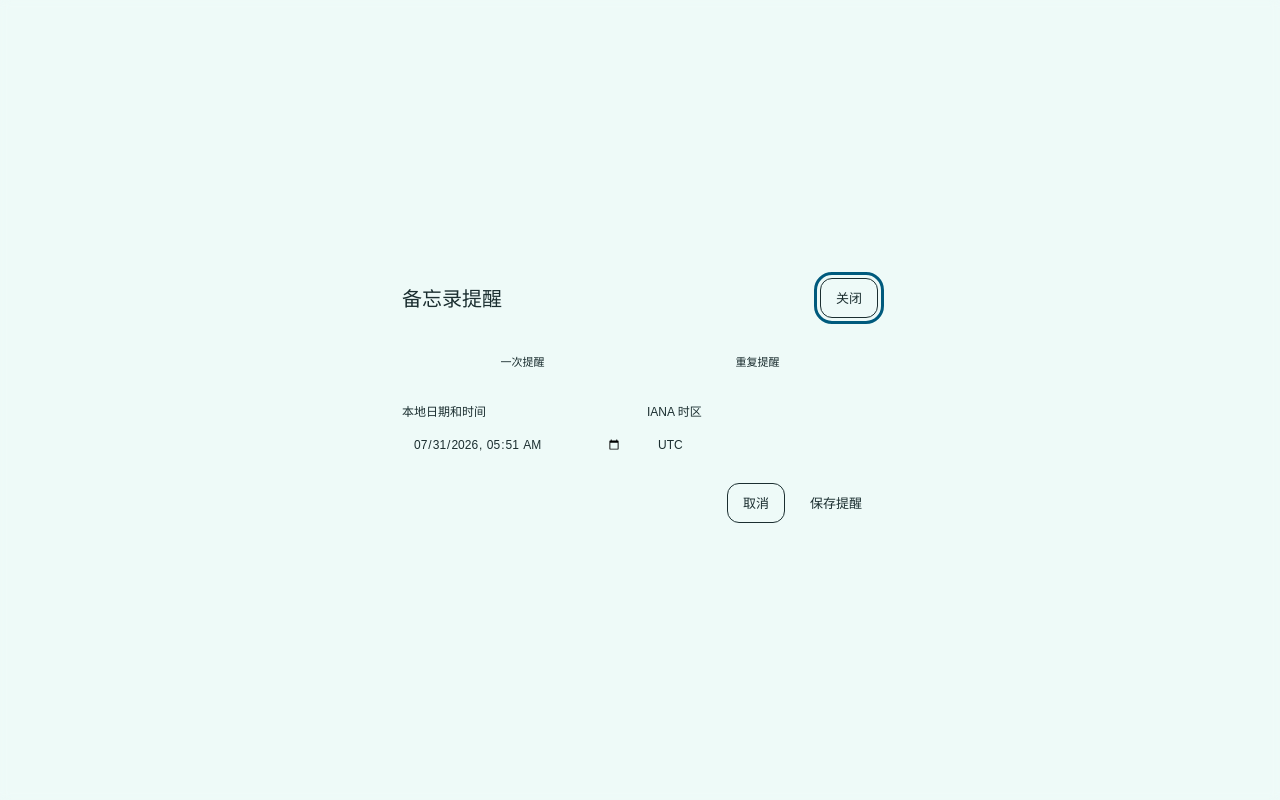
it: MemoReminderEditor › switches from a one-time reminder to progressive recurring fields
This screenshot has width=1280, height=800.
Click the radio button labelled "重复提醒": (758,360) [640, 340, 875, 380]
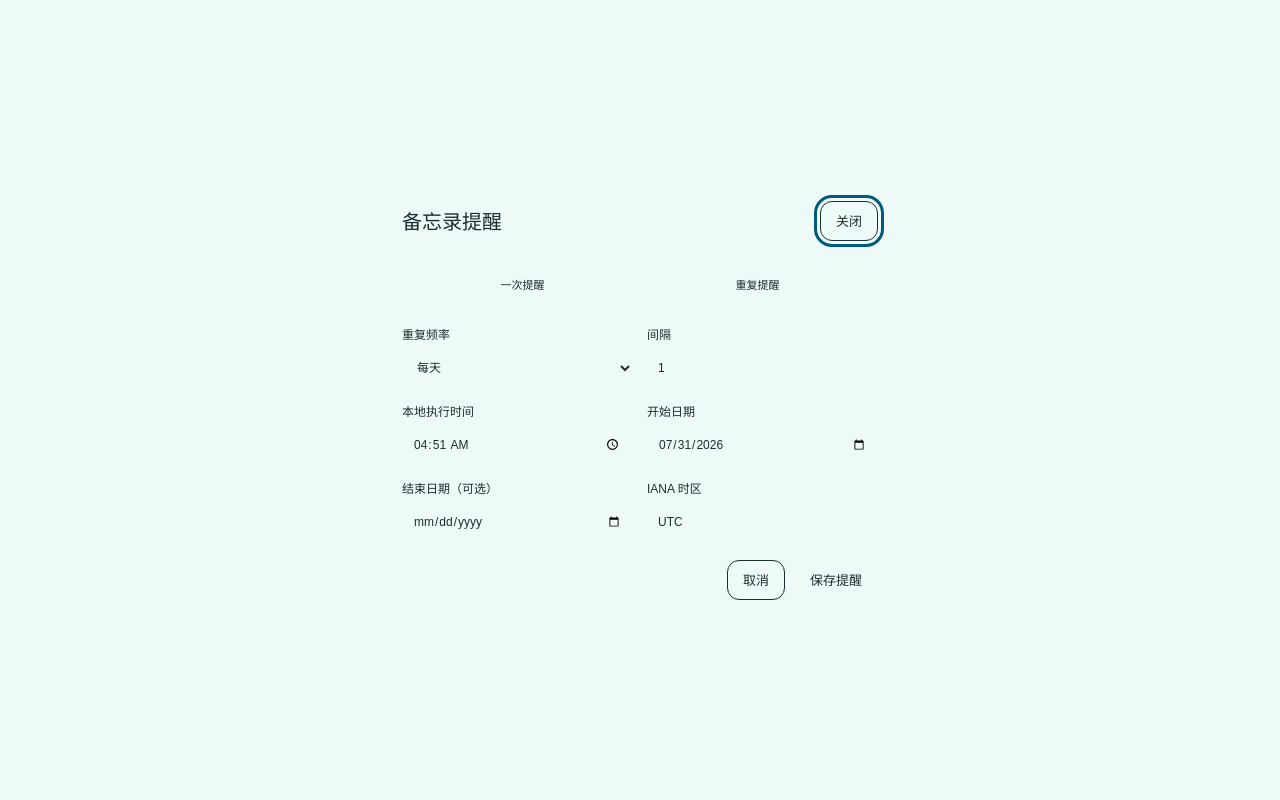
Expected: the element "执行星期" is not shown
Expected: the dropdown labelled "重复频率" shows "每天"
Select "每周" in the dropdown labelled "重复频率": (518,368) [402, 348, 633, 388]
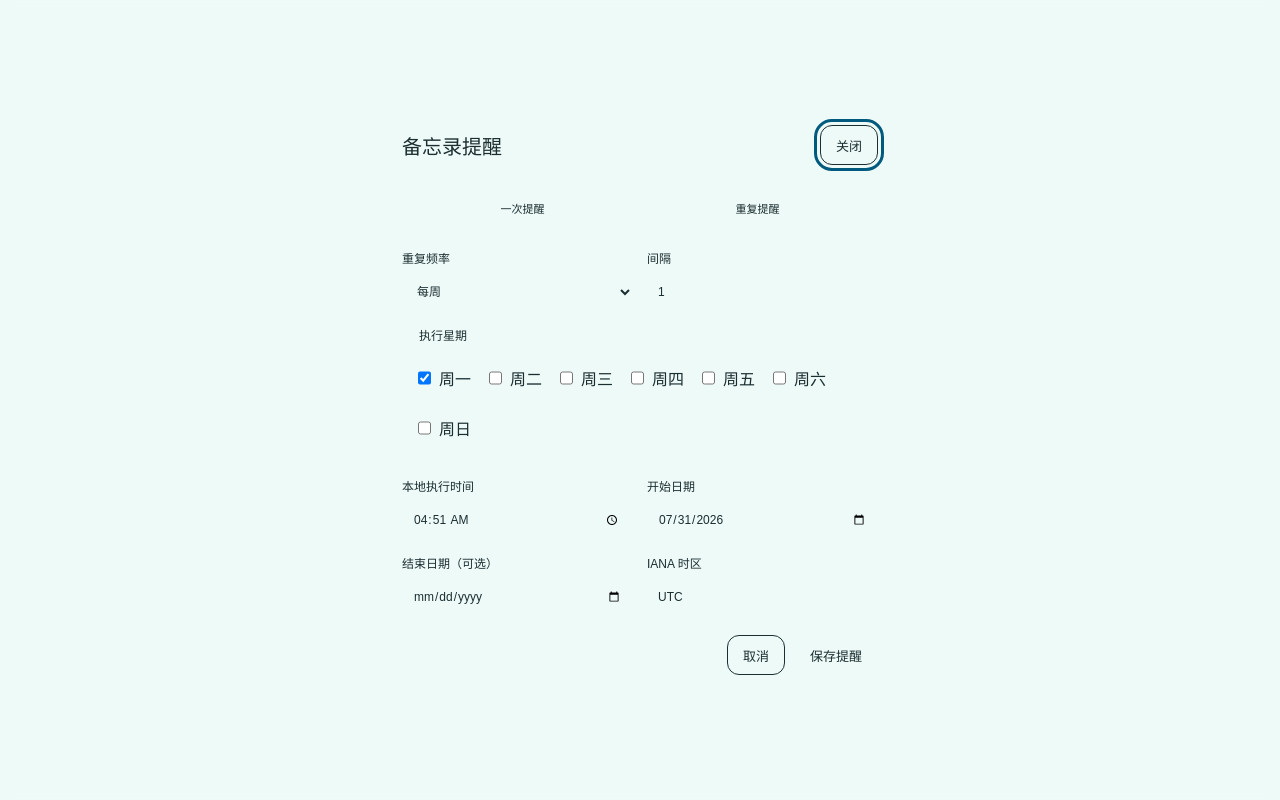
Expected: the element "执行星期" is shown, [402, 326, 878, 463]
Select "每月" in the dropdown labelled "重复频率": (518,292) [402, 272, 633, 312]
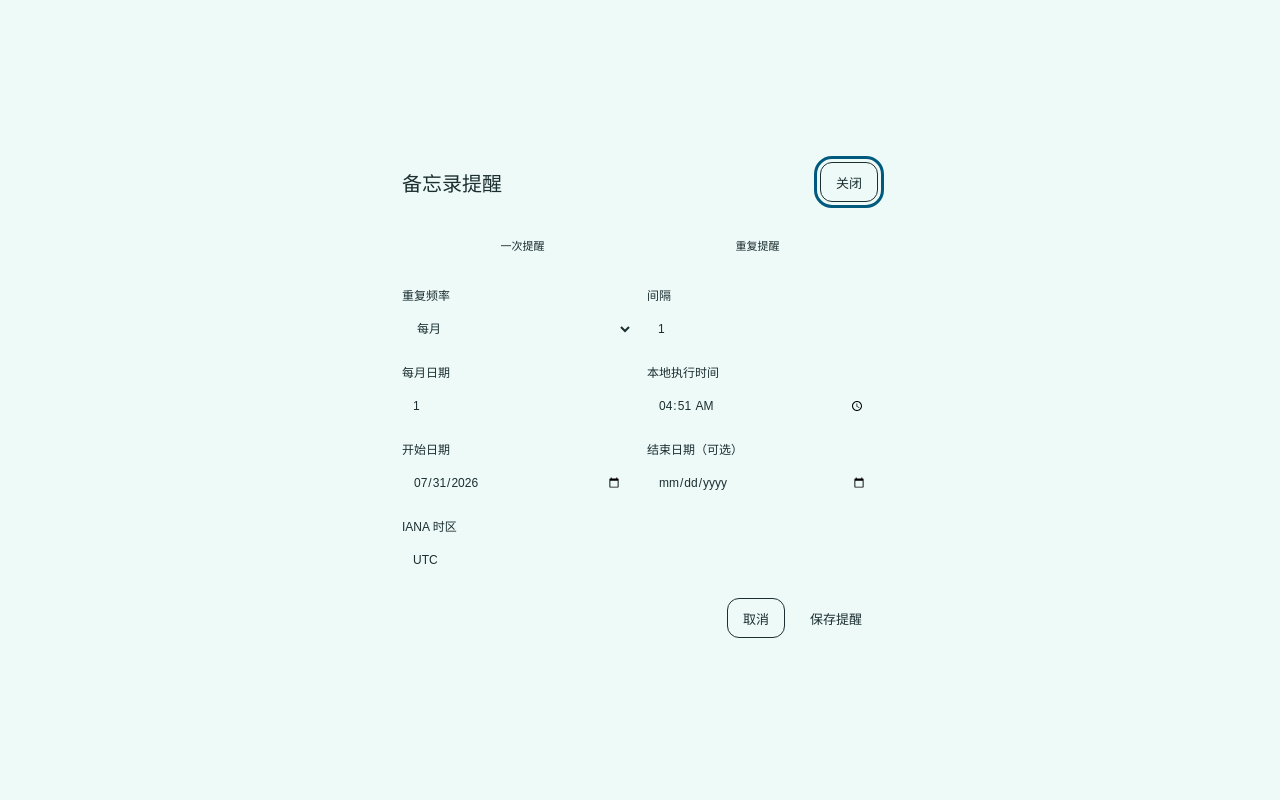
Expected: the number field labelled "每月日期" is shown, [402, 386, 633, 426]
